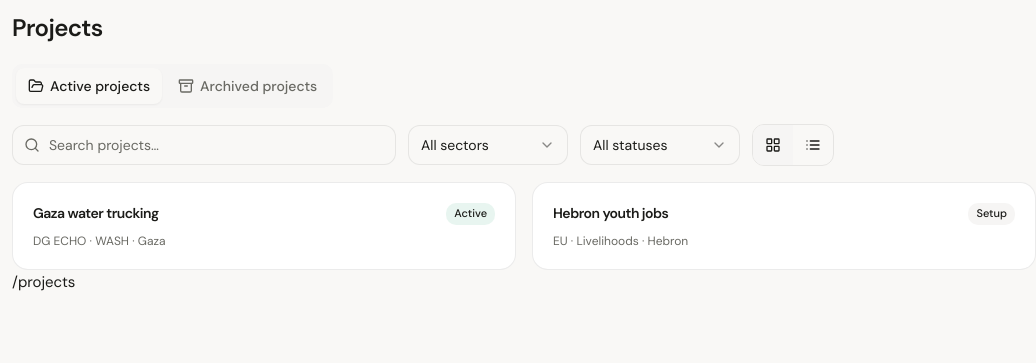
Test: Projects list controls › names the search, both filters and the layout toggles, and says which layout is on
Expected: the heading "Gaza water trucking" is shown, x1=33 y1=203 x2=159 y2=223
Expected: the field labelled "Search projects" is shown, x1=12 y1=125 x2=396 y2=165
Click the button named "Show as a list" at (813, 145), box x1=793 y1=125 x2=833 y2=165
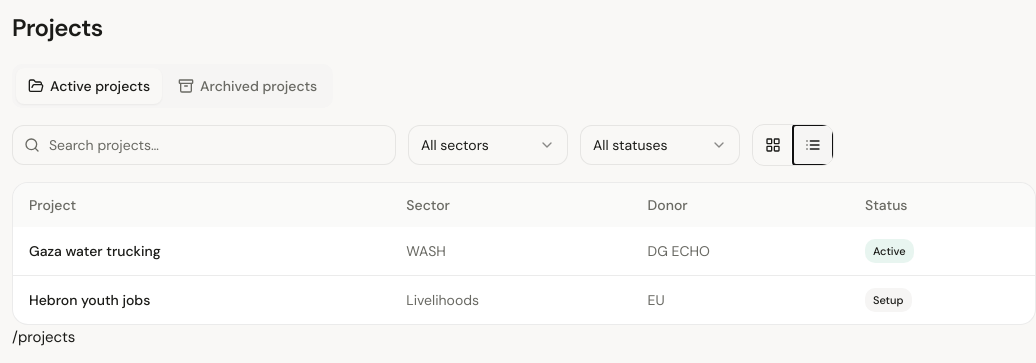
Now the column headings read "Project", "Sector", "Donor", "Status", in this order, box x1=13 y1=183 x2=390 y2=227; x1=390 y1=183 x2=632 y2=227; x1=632 y1=183 x2=849 y2=227; x1=849 y1=183 x2=1035 y2=227
